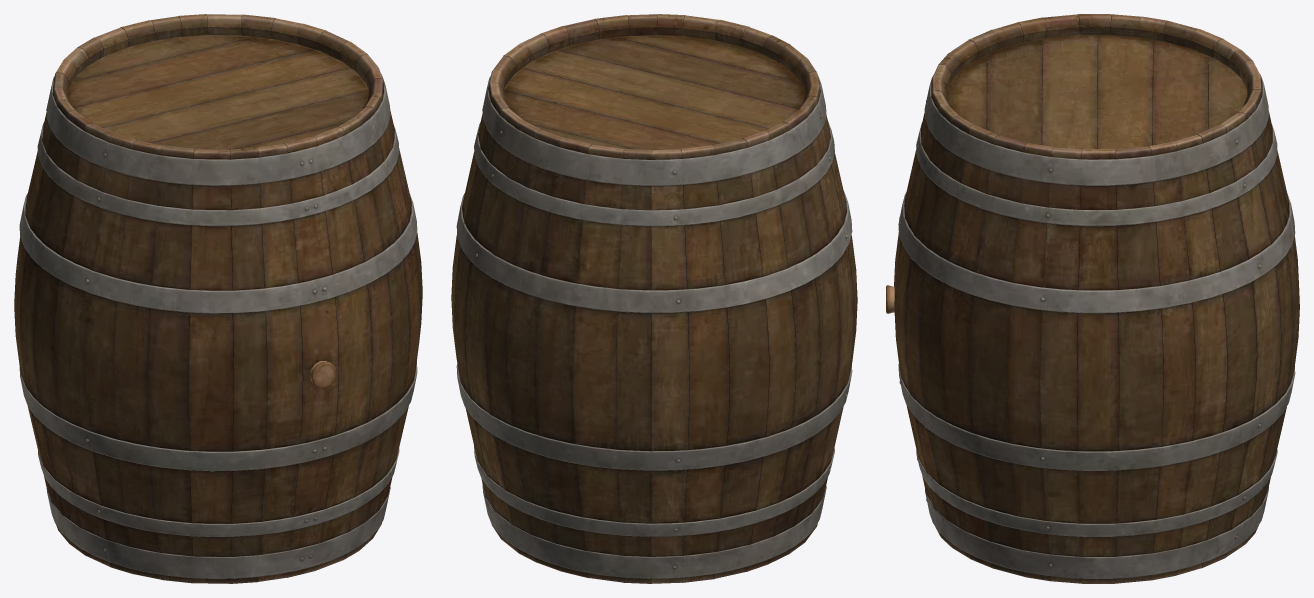
The model's file is wine_barrel_01.glb.
The picture shows the model from 3 angles, left to right: view 1: azimuth 30°, elevation 25°; view 2: azimuth 150°, elevation 25°; view 3: azimuth 270°, elevation 25°; orthographic projection.
Parts seen in each view (by area): view 1: wine_barrel_01_Lid; view 2: wine_barrel_01_Lid; view 3: wine_barrel_01_Lid.
Part boxes in pixels (left/top/right/bottom): wine_barrel_01_Lid: left=14, top=14, right=422, bottom=583; wine_barrel_01_Lid: left=451, top=14, right=857, bottom=583; wine_barrel_01_Lid: left=886, top=14, right=1299, bottom=583.
Bounding box in the file's own units: 0.7419 × 0.8713 × 0.756.
1 material, 1 textured.
